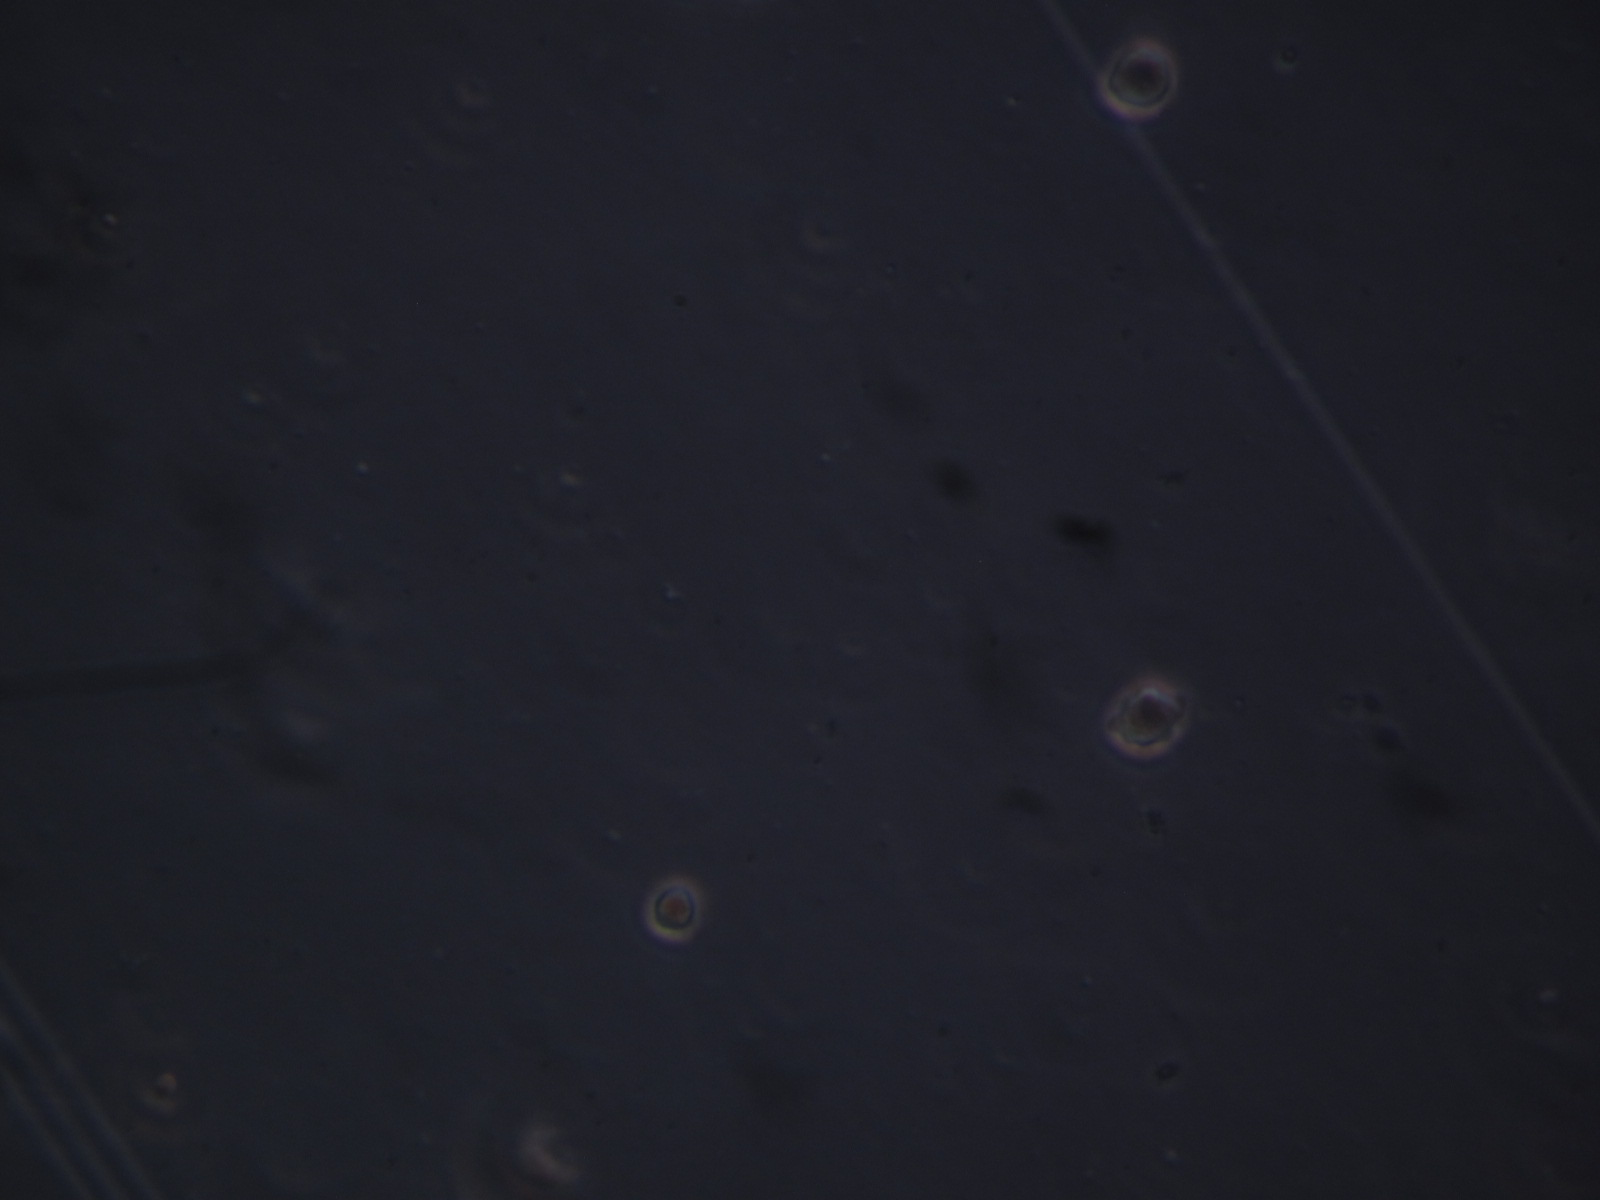hemo: (1104, 677, 1189, 761), (1102, 34, 1180, 118), (643, 871, 706, 943)
